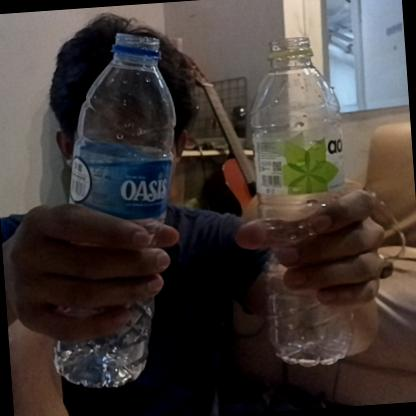plastic_bottles: (34, 26, 194, 392), (242, 31, 362, 368)
